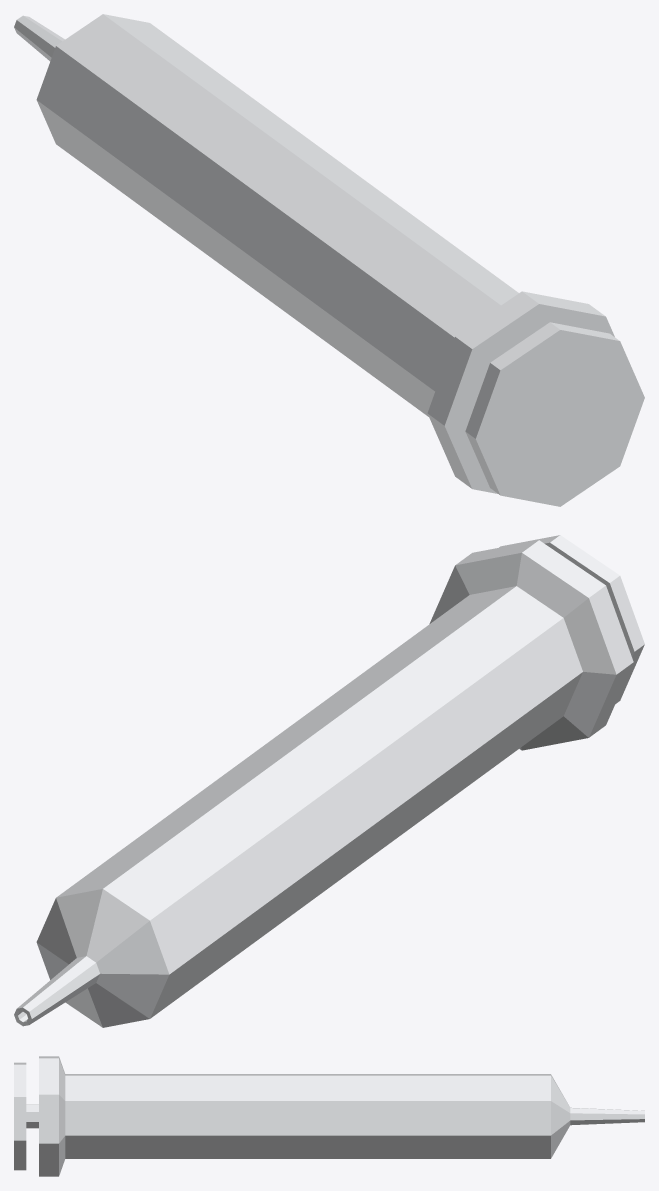
The model's file is syringe_syringe.obj.
The picture shows the model from 3 angles, top to bottom: view 1: azimuth 30°, elevation 25°; view 2: azimuth 150°, elevation 25°; view 3: azimuth 270°, elevation 25°; orthographic projection. The views are drawn at different scales.
Visible parts, largest first — view 1: Cylinder.616, Cylinder.617_1; view 2: Cylinder.616, Cylinder.617_1; view 3: Cylinder.616, Cylinder.617_1.
Boxes of the visible parts, x1,y1,x2,y2 form: Cylinder.616: (14, 14, 614, 493); Cylinder.617_1: (465, 322, 644, 506); Cylinder.616: (14, 540, 633, 1027); Cylinder.617_1: (499, 535, 644, 703); Cylinder.616: (39, 1056, 644, 1176); Cylinder.617_1: (14, 1062, 38, 1170).
Size of the model in its own units: 0.0285 by 0.0285 by 0.1401.
2 materials, 2 textured.
